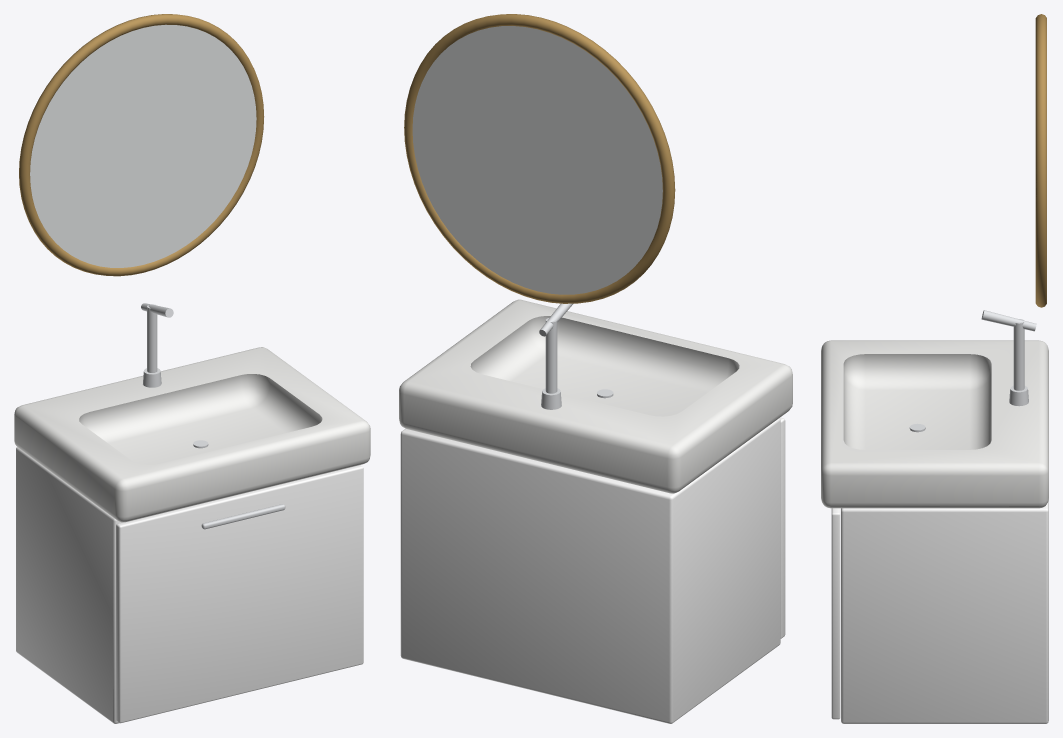
File: lavatorio.glb
3 renders of one model, left to right at view 1: azimuth 30°, elevation 25°; view 2: azimuth 150°, elevation 25°; view 3: azimuth 270°, elevation 25°, orthographic. The views are drawn at different scales.
Parts seen in each view (by area): view 1: p; view 2: p; view 3: p.
Boxes of the visible parts, left/top/right/bottom form: p: left=14, top=14, right=370, bottom=723; p: left=399, top=14, right=792, bottom=723; p: left=821, top=14, right=1048, bottom=723.
Bounding box in the file's own units: 0.62 × 1.41 × 0.46.
